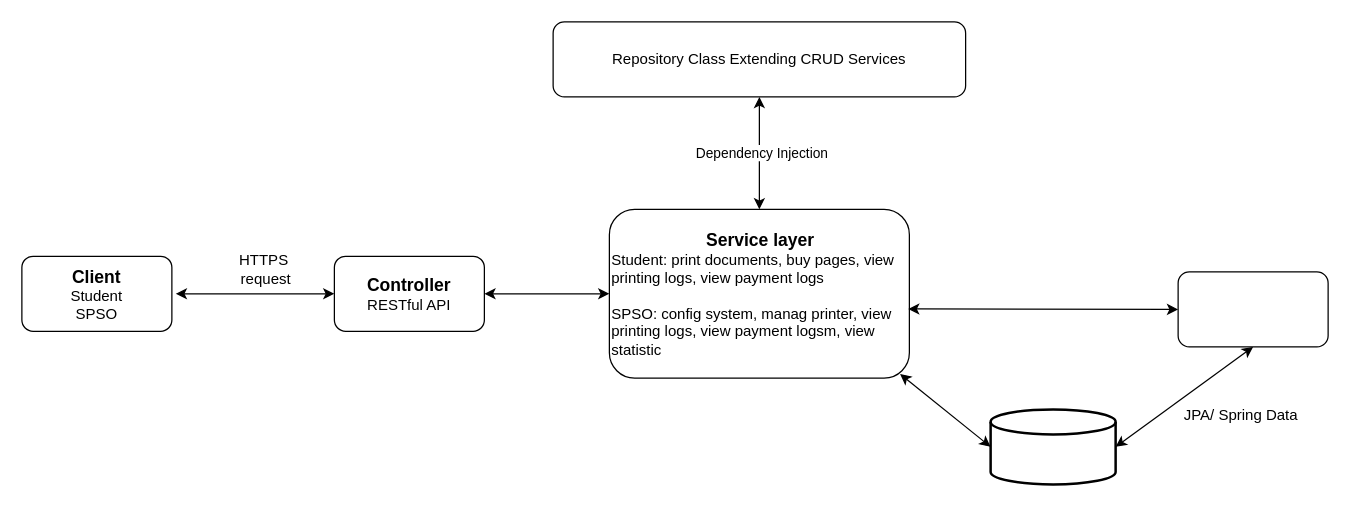
This 1350x508 diagram has some shape labels left out. The centre of each missing label's shape, as x and y in pixels:
Database: point (1052, 446)
Model printer, configuration, printing log, payment log,: point (1252, 309)
